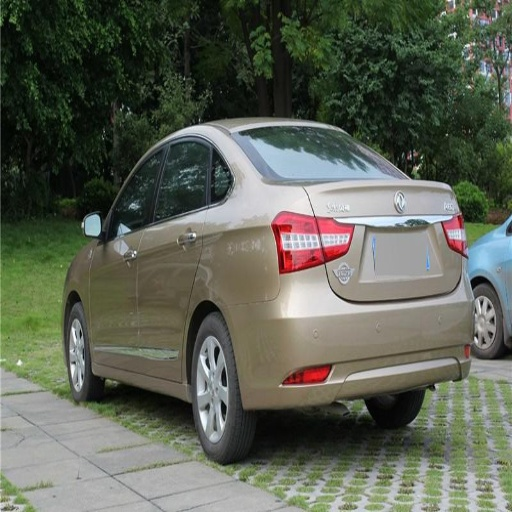back_bumper: (231, 256, 476, 408)
back_glass: (233, 125, 397, 182)
back_left_door: (139, 131, 233, 379)
tailgate: (297, 175, 453, 299)
